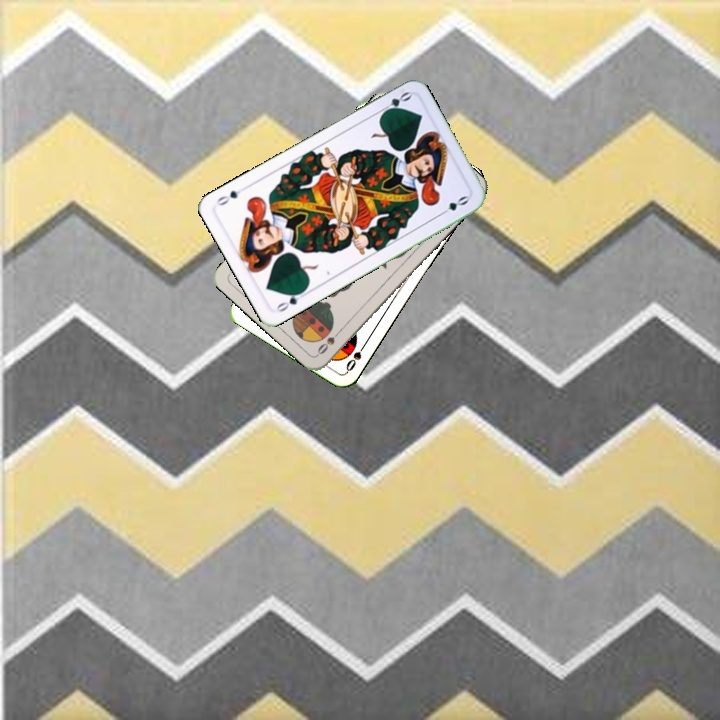GO: (375, 87, 414, 117), (272, 286, 307, 315)
SO: (313, 324, 345, 357), (341, 338, 369, 375)
